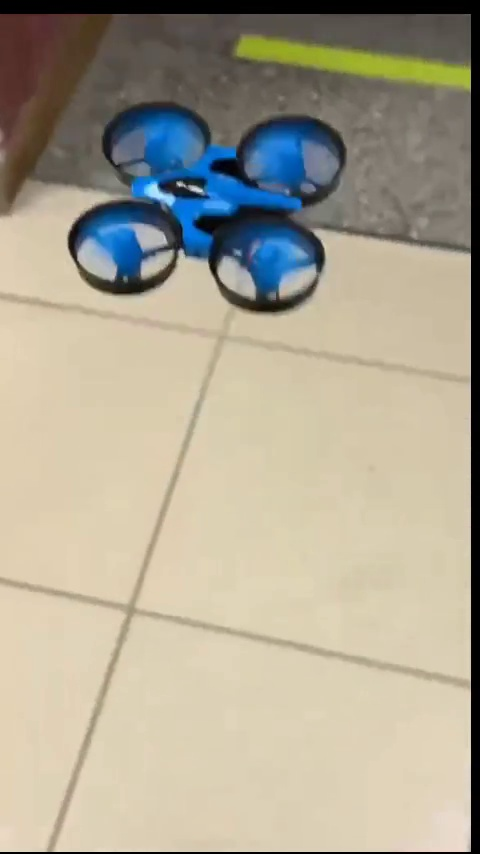drone: (71, 102, 336, 316)
